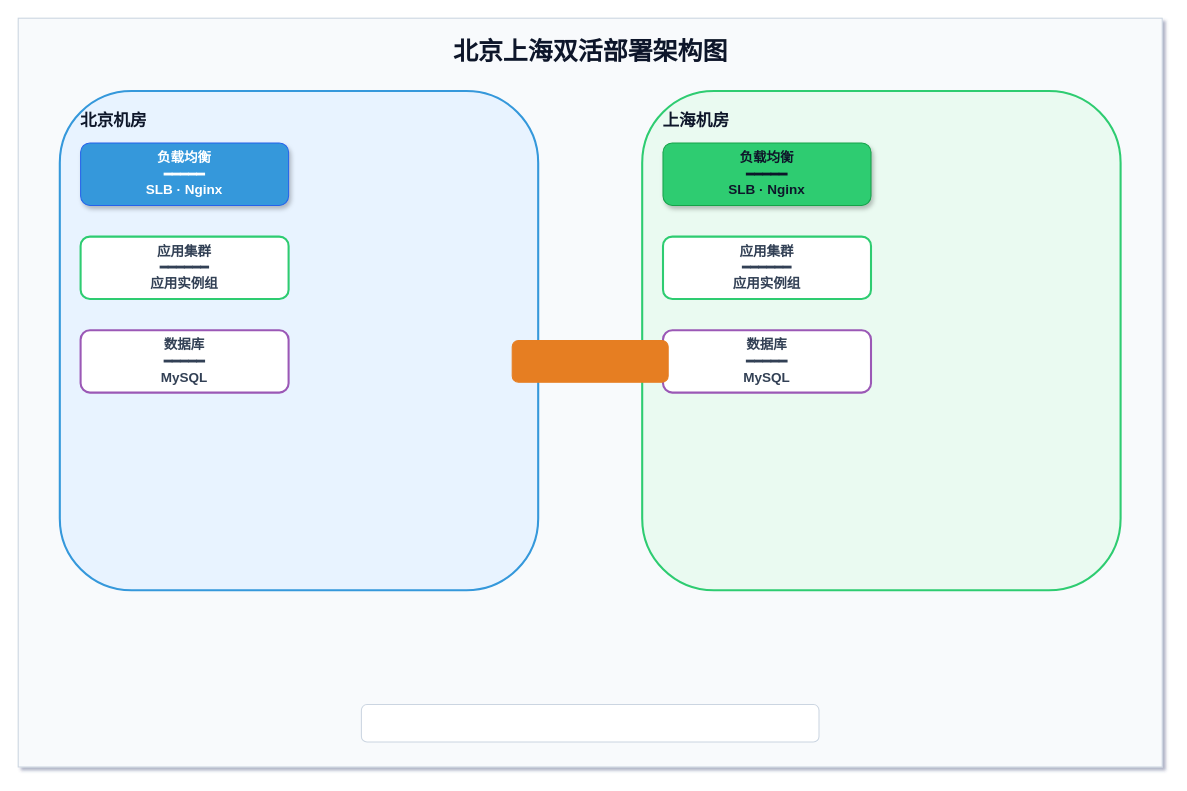
The diagram is 1187 pixels wide and 791 high, and some of its shapes have lost their labels. Each missing label, with the centre of its shape:
"数据库双向同步" goes at (589,361).
"蓝色=北京机房 绿色=上海机房 橙色=数据库同步" goes at (589,723).
